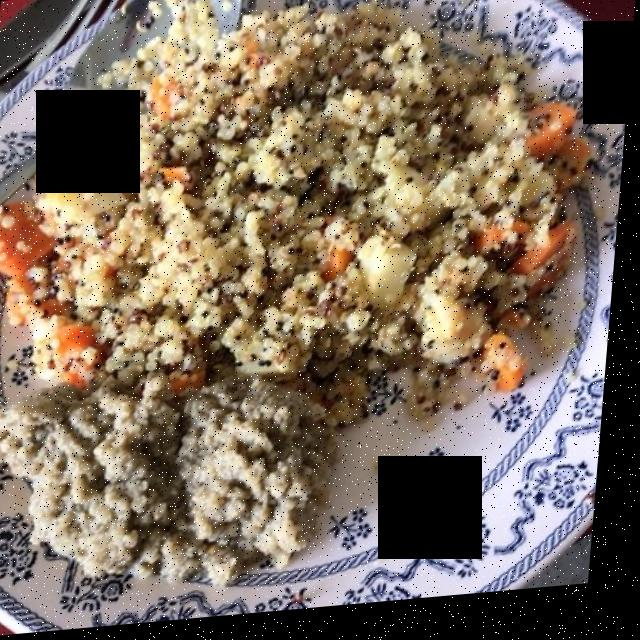eggplant-caviar: (7, 411, 320, 577)
quinoa: (50, 28, 586, 391)
